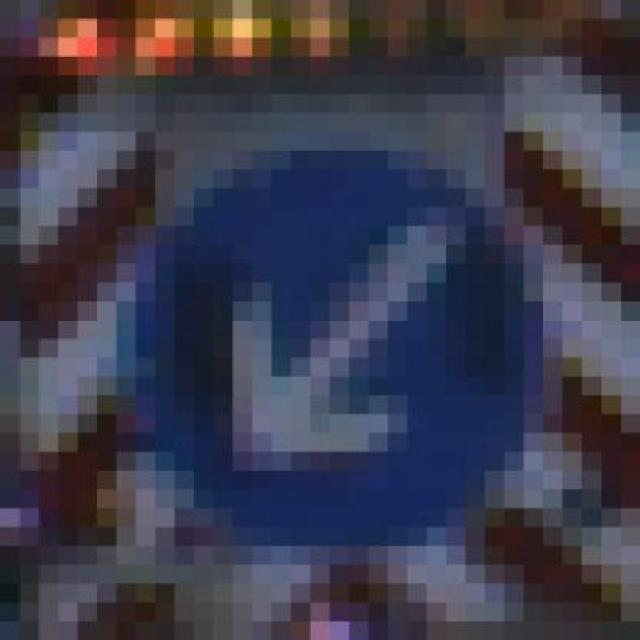Keep-Left: (97, 112, 563, 565)
